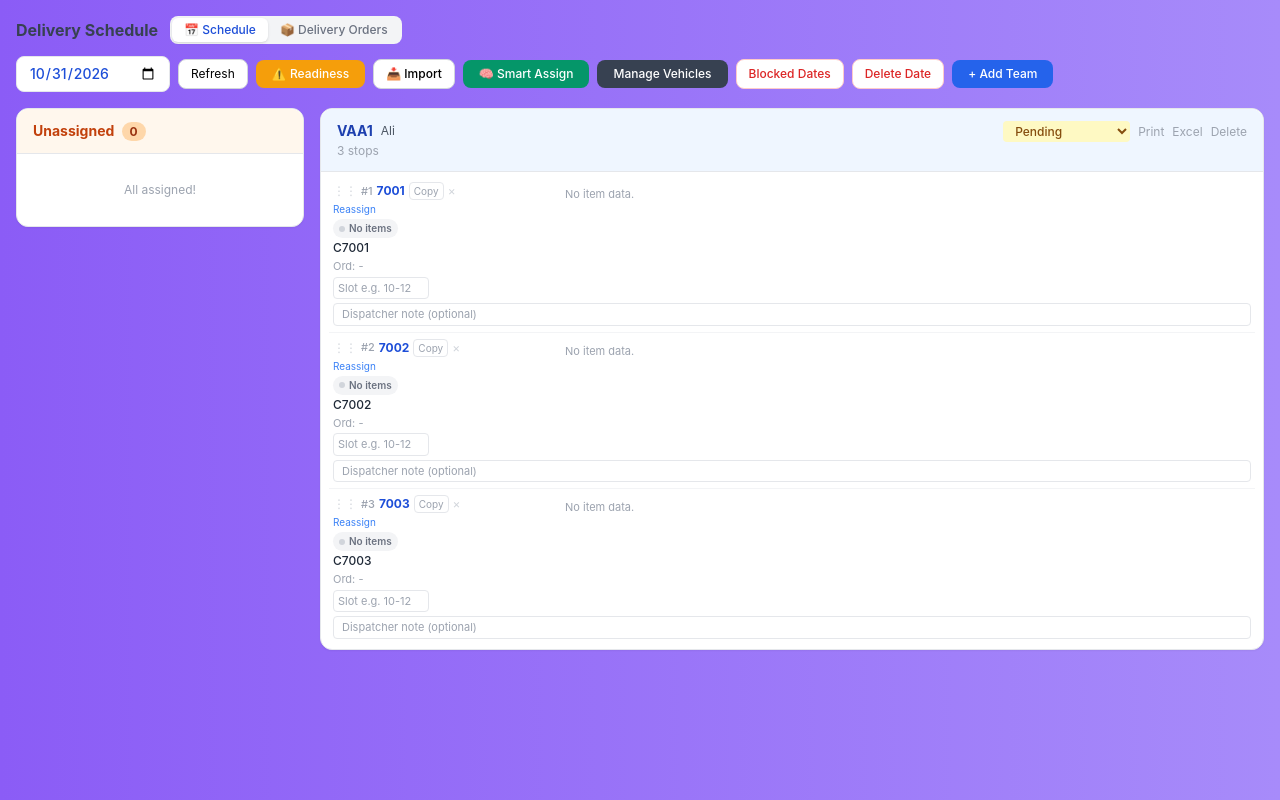
Test: Schedule board — route status Delivered › legacy stops answering 409 are queued into the dialog one by one; DO stops just complete
The width and height of the screenshot is (1280, 800).
Select "Delivered" in the dropdown showing "Pending" at (1067,132), box [1003,121,1130,142]
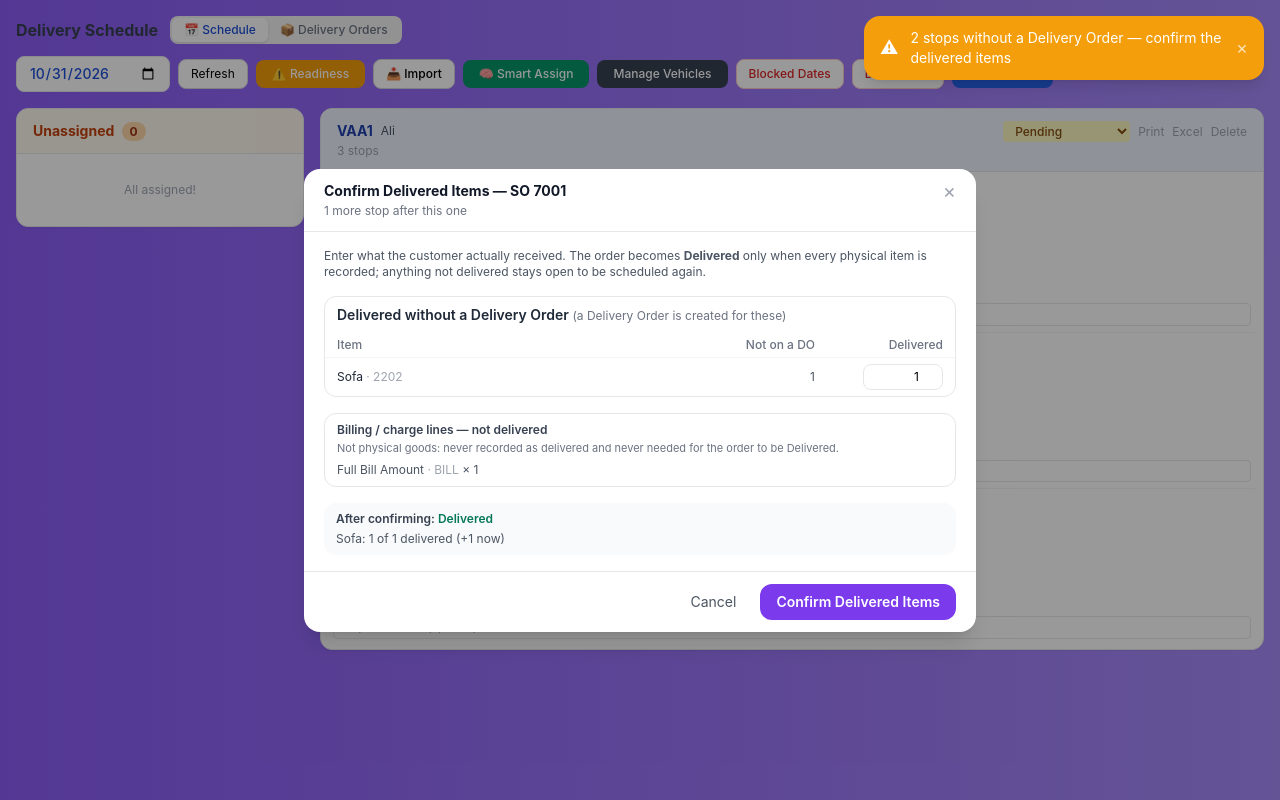
Expected: the text "1 more stop after this one" is shown, [324,202,467,218]
Click the button "Confirm Delivered Items".
click(858, 602)  # box [760,584,956,620]
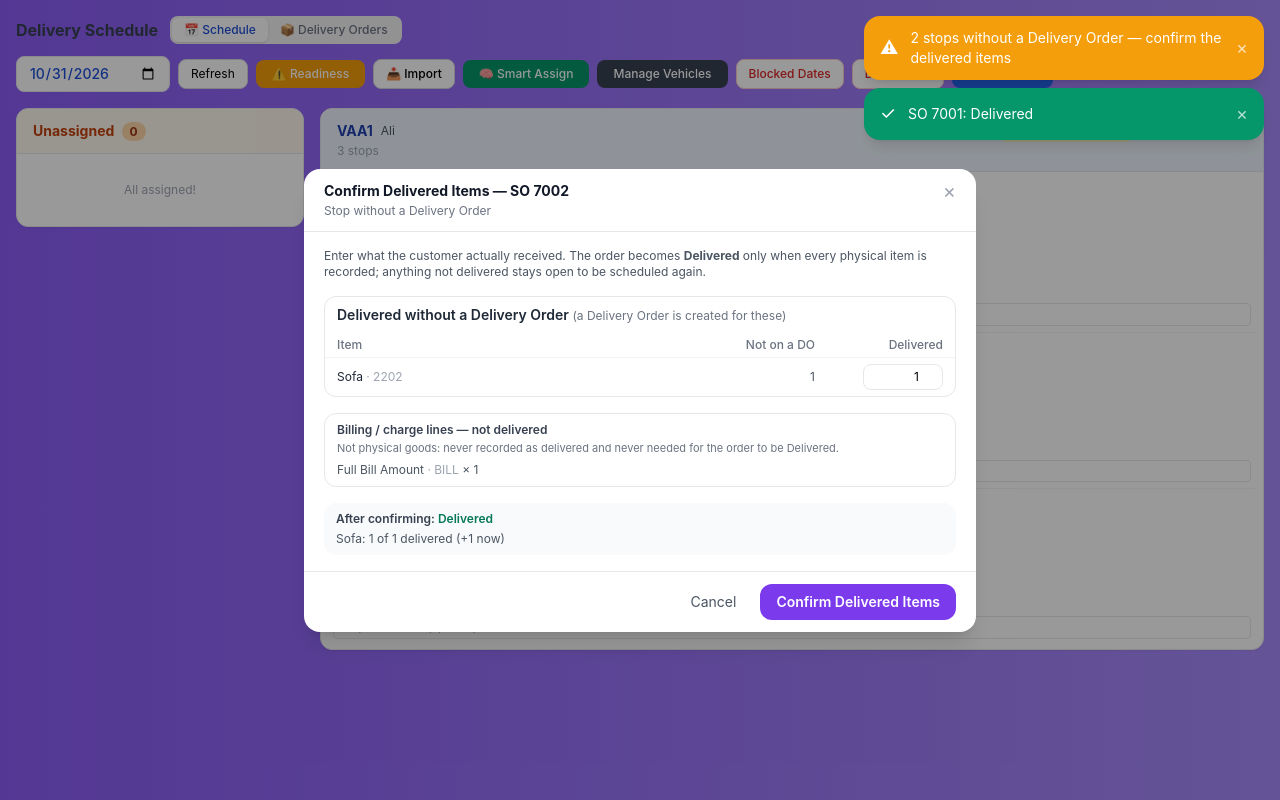
Click the button "Confirm Delivered Items".
click(858, 602)  # box [760,584,956,620]
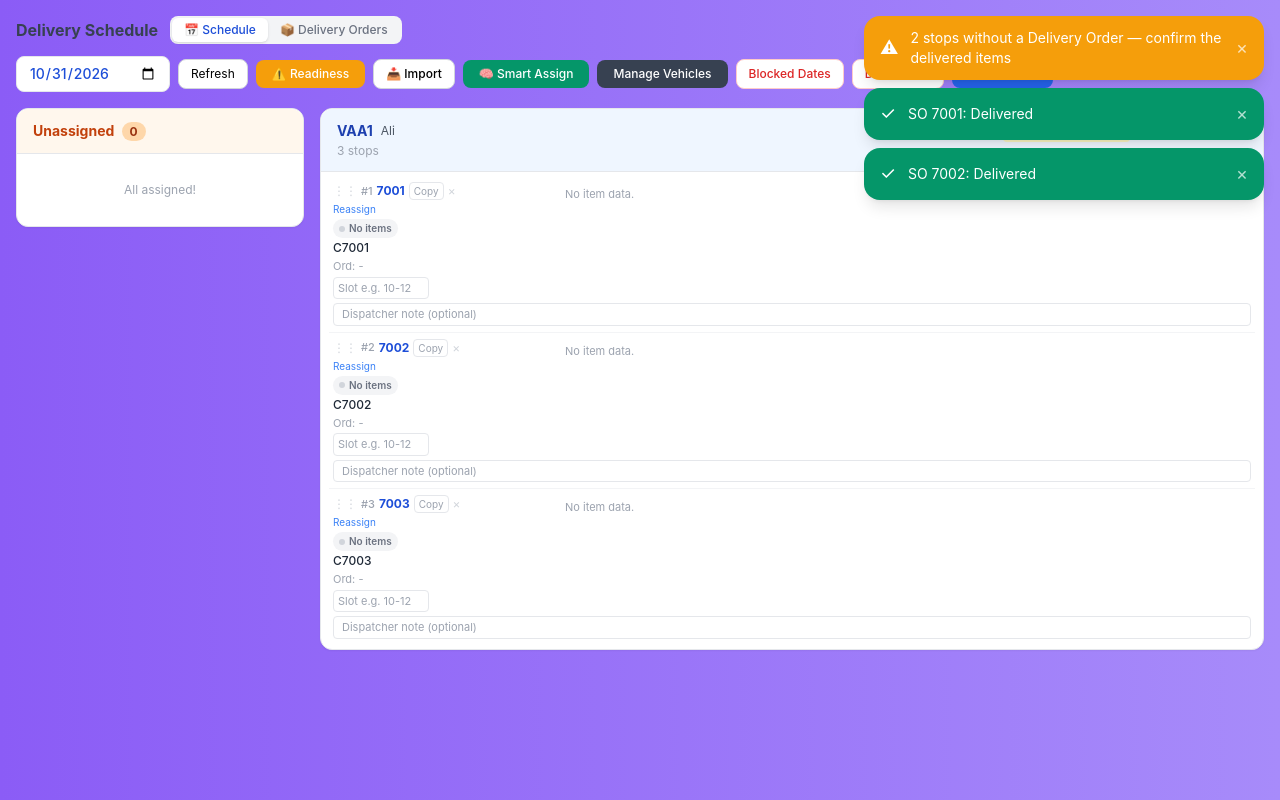
Expected: the dialog is gone
